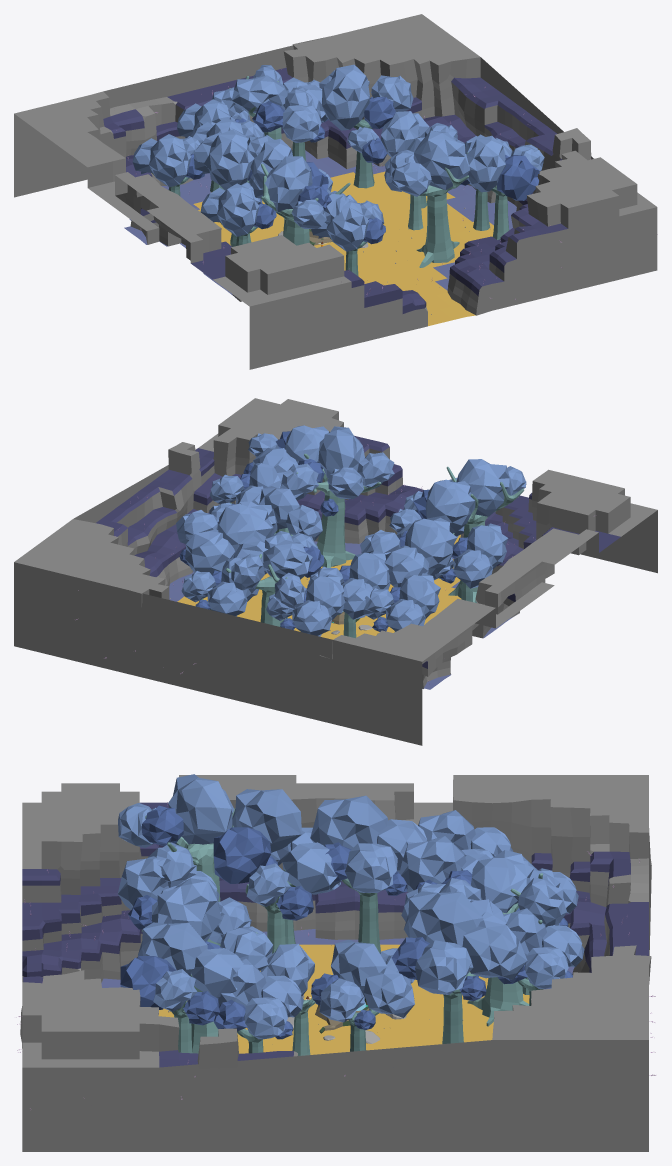
The model's file is dawn_spring3.0.fbx.
The picture shows the model from 3 angles, top to bottom: view 1: azimuth 30°, elevation 25°; view 2: azimuth 150°, elevation 25°; view 3: azimuth 270°, elevation 25°; orthographic projection. The views are drawn at different scales.
Visible parts, largest first — view 1: wall, mud_ground, Icosphere.021, Icosphere.082, Vert.016, Icosphere.001, Icosphere.078, Icosphere.037, Icosphere.052, Icosphere.047, Icosphere.032, Icosphere.072 (+15 smaller); view 2: wall, mud_ground, Icosphere.078, Icosphere.001, Icosphere.011, Vert.016, Icosphere.021, Icosphere.082, Icosphere.024, Icosphere.032, Icosphere.004, Icosphere.047 (+25 smaller); view 3: wall, mud_ground, Icosphere.078, Icosphere.021, Icosphere.001, Icosphere.011, Icosphere.082, Icosphere.024, Icosphere.013, Icosphere.032, Icosphere.022, Icosphere.006 (+40 smaller).
Boxes of the visible parts, x1=… form: wall: x1=14, y1=14, x2=657, y2=369; mud_ground: x1=124, y1=150, x2=516, y2=325; Icosphere.021: x1=322, y1=64, x2=369, y2=130; Icosphere.082: x1=413, y1=130, x2=469, y2=190; Vert.016: x1=416, y1=152, x2=468, y2=267; Icosphere.001: x1=204, y1=129, x2=254, y2=190; Icosphere.078: x1=264, y1=156, x2=312, y2=212; Icosphere.037: x1=466, y1=135, x2=505, y2=192; Icosphere.052: x1=149, y1=134, x2=191, y2=187; Icosphere.047: x1=217, y1=183, x2=259, y2=236; Icosphere.032: x1=232, y1=75, x2=287, y2=113; Icosphere.072: x1=326, y1=200, x2=368, y2=251; wall: x1=14, y1=398, x2=657, y2=745; mud_ground: x1=169, y1=534, x2=514, y2=689; Icosphere.078: x1=456, y1=459, x2=513, y2=516; Icosphere.001: x1=405, y1=517, x2=457, y2=575; Icosphere.011: x1=425, y1=480, x2=475, y2=532; Vert.016: x1=296, y1=453, x2=381, y2=567; Icosphere.021: x1=217, y1=503, x2=273, y2=552; Icosphere.082: x1=318, y1=426, x2=364, y2=478; Icosphere.024: x1=185, y1=529, x2=235, y2=574; Icosphere.032: x1=263, y1=540, x2=312, y2=579; Icosphere.004: x1=384, y1=545, x2=428, y2=587; Icosphere.047: x1=466, y1=523, x2=508, y2=569; wall: x1=20, y1=775, x2=651, y2=1151; mud_ground: x1=101, y1=929, x2=574, y2=1054; Icosphere.078: x1=168, y1=774, x2=233, y2=844; Icosphere.021: x1=404, y1=891, x2=483, y2=946; Icosphere.001: x1=310, y1=795, x2=388, y2=849; Icosphere.011: x1=232, y1=789, x2=301, y2=852; Icosphere.082: x1=152, y1=878, x2=221, y2=941; Icosphere.024: x1=462, y1=920, x2=527, y2=979; Icosphere.013: x1=213, y1=827, x2=271, y2=883; Icosphere.032: x1=471, y1=850, x2=533, y2=913; Icosphere.022: x1=415, y1=940, x2=473, y2=994; Icosphere.006: x1=399, y1=836, x2=466, y2=892.
Bounding box in the file's own units: 43873 × 14466 × 44483.
